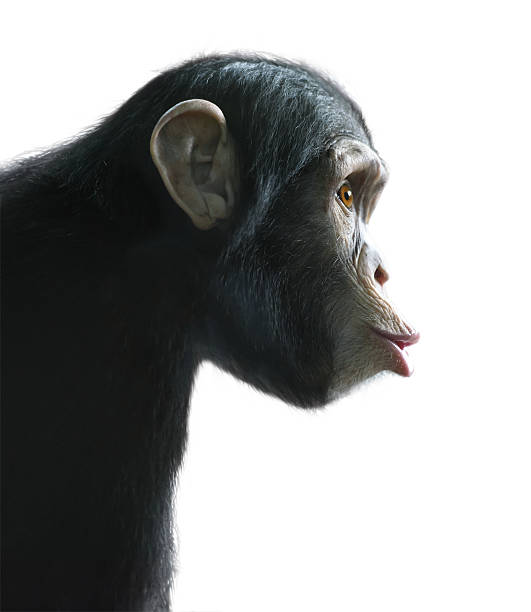chimpanzee: (116, 32, 451, 426)
